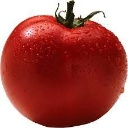tomato: (1, 16, 128, 127)
